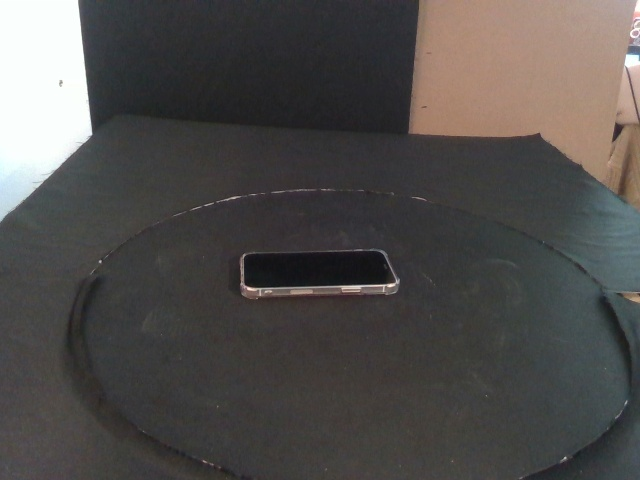phone: (239, 248, 401, 300)
